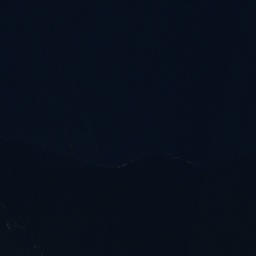Marine Debris: (28, 94, 138, 173)
